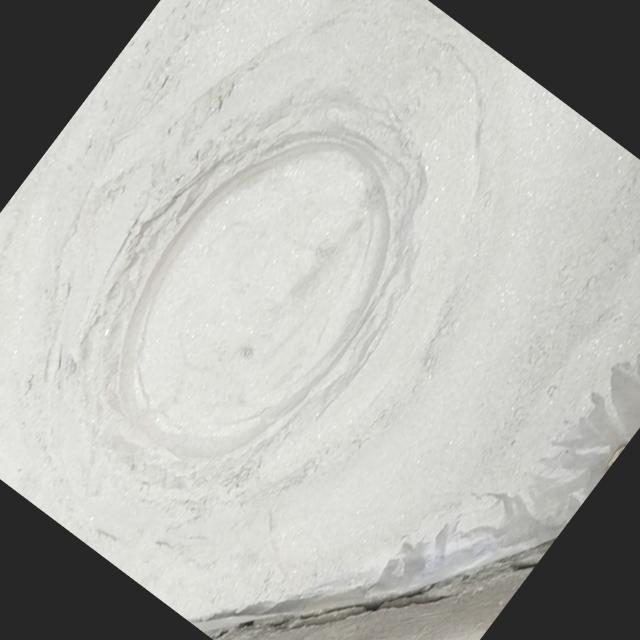C40: (118, 140, 390, 456)
